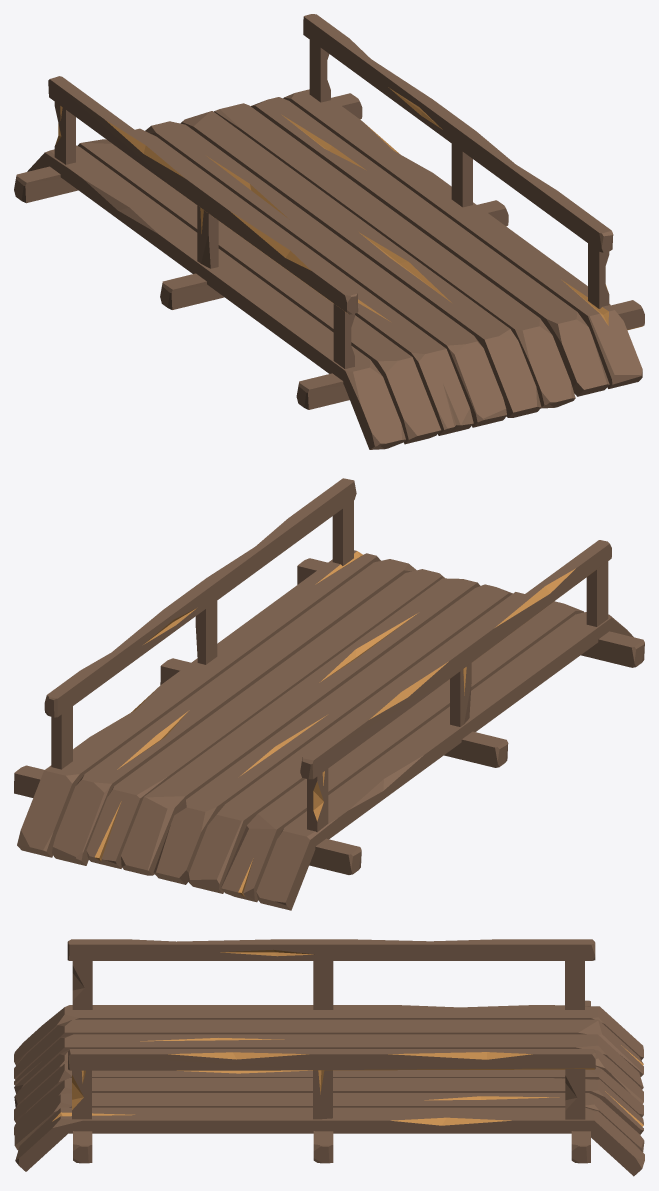
File: bridgeSeperated.fbx
3 views of the same model, one above another, from view 1: azimuth 30°, elevation 25°; view 2: azimuth 150°, elevation 25°; view 3: azimuth 270°, elevation 25° (orthographic). The views are drawn at different scales.
Visible parts, largest first — view 1: Bridge_2.002, Bridge_2.001; view 2: Bridge_2.001, Bridge_2.002; view 3: Bridge_2.001, Bridge_2.002.
Boxes of the visible parts, x1,y1,x2,y2 form: Bridge_2.002: (163,124,644,449); Bridge_2.001: (14,14,499,304); Bridge_2.001: (14,585,500,910); Bridge_2.002: (163,478,644,765); Bridge_2.001: (328,939,644,1176); Bridge_2.002: (14,939,327,1171).
Bounding box in the file's own units: 0.9834 × 0.3847 × 1.81.
